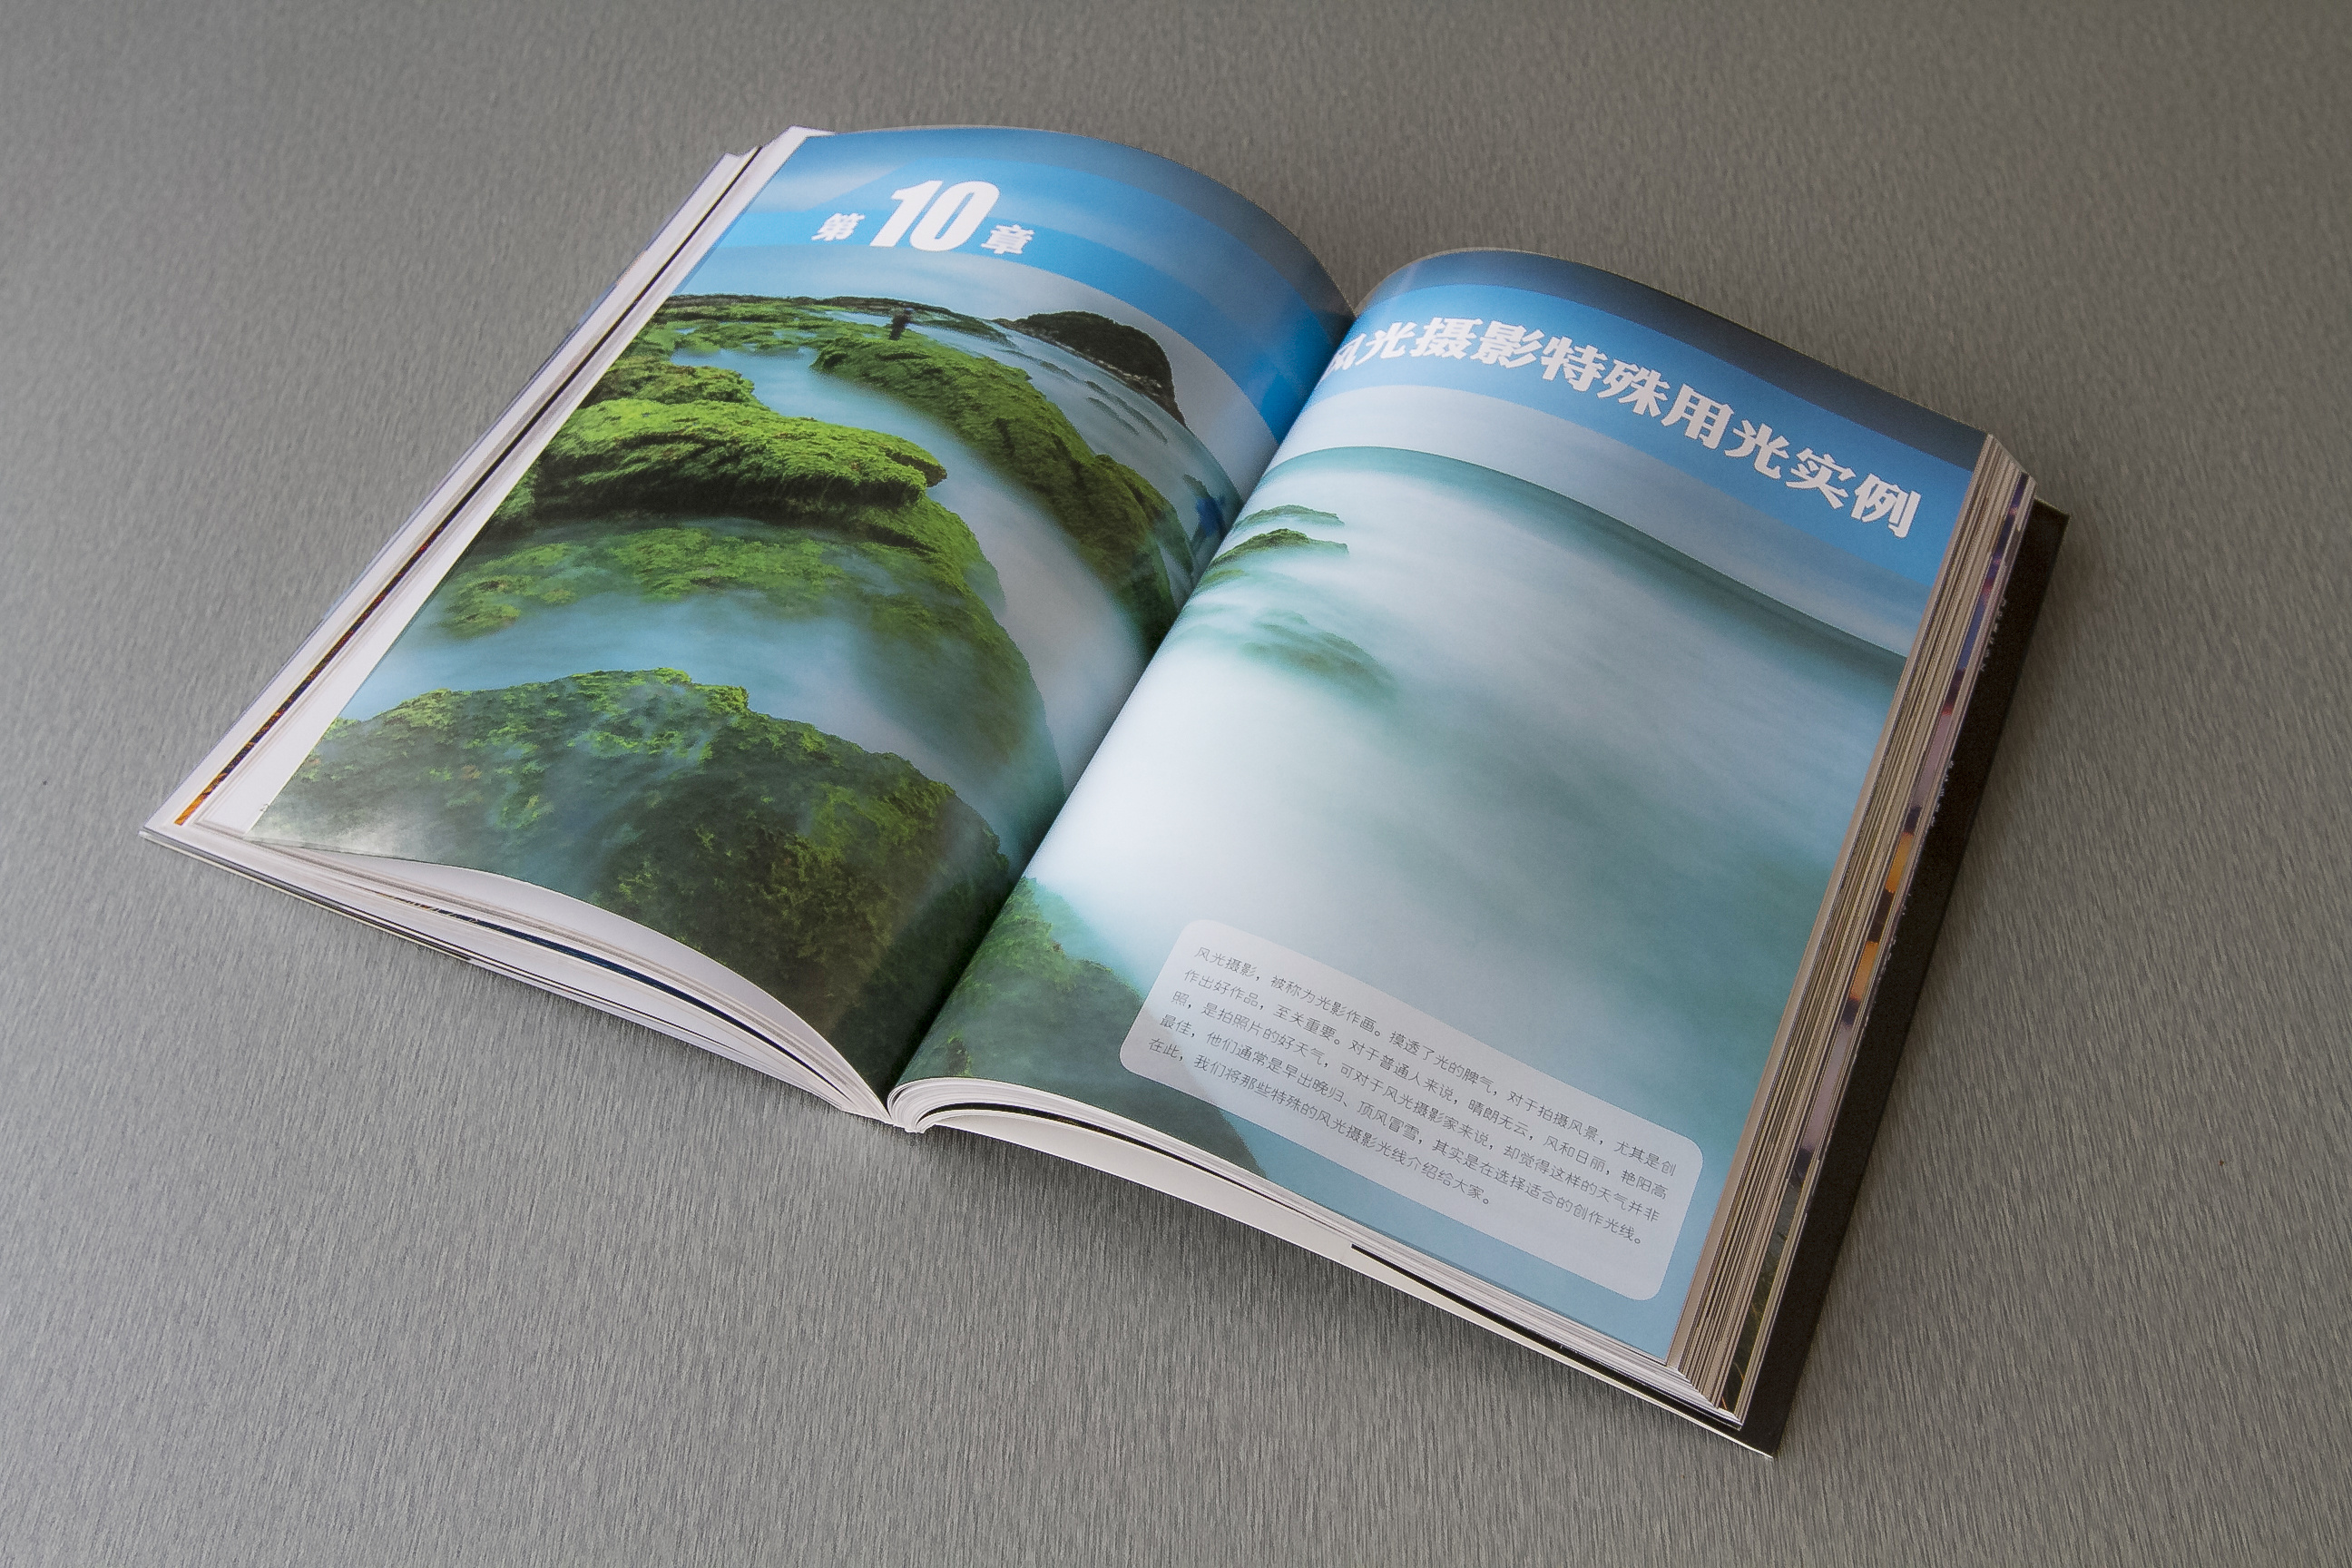book: (107, 91, 2086, 1468)
